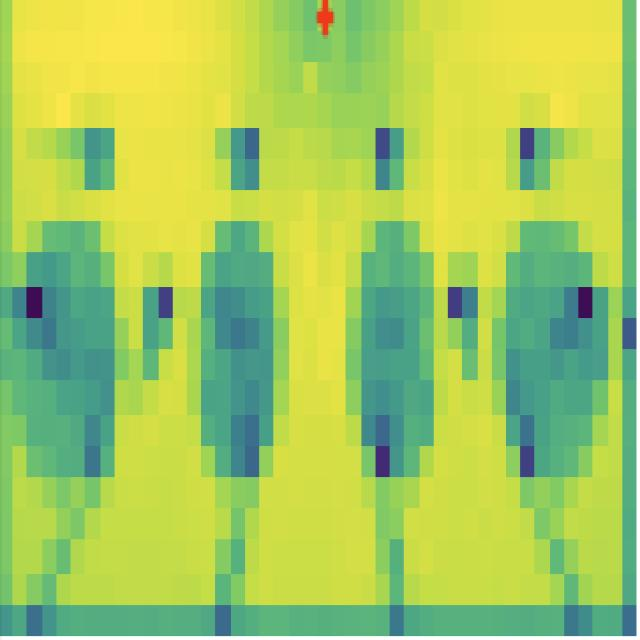Concrete: (22, 208, 121, 515)
Glass: (490, 187, 604, 503)
Metal: (186, 204, 291, 504)
Wood: (332, 210, 448, 533)
